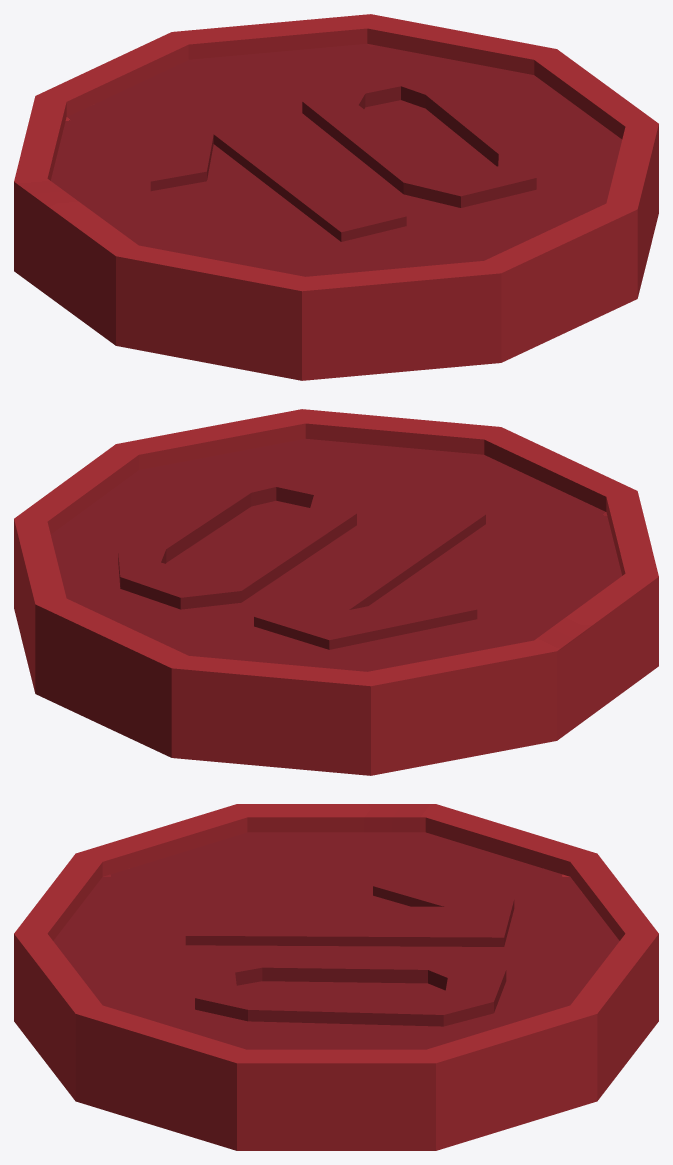
The model's file is moneda_10.glb.
3 views of the same model, one above another, from view 1: azimuth 30°, elevation 25°; view 2: azimuth 150°, elevation 25°; view 3: azimuth 270°, elevation 25° (orthographic). The views are drawn at different scales.
Visible parts, largest first — view 1: Cylinder; view 2: Cylinder; view 3: Cylinder.
Part boxes in pixels (bbox=[...]): Cylinder: bbox=[14, 14, 658, 380]; Cylinder: bbox=[14, 409, 658, 775]; Cylinder: bbox=[14, 804, 658, 1150].
Size of the model in its own units: 0.4755 by 0.075 by 0.5.
1 material, 1 textured.
